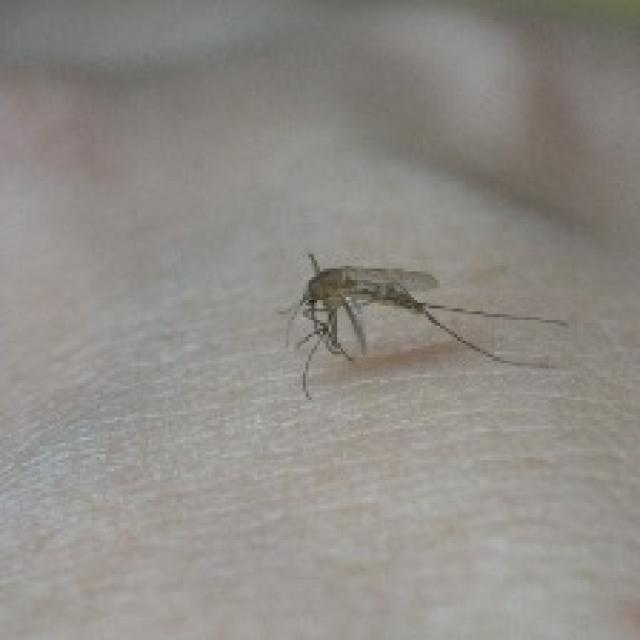culex: (277, 249, 569, 400)
